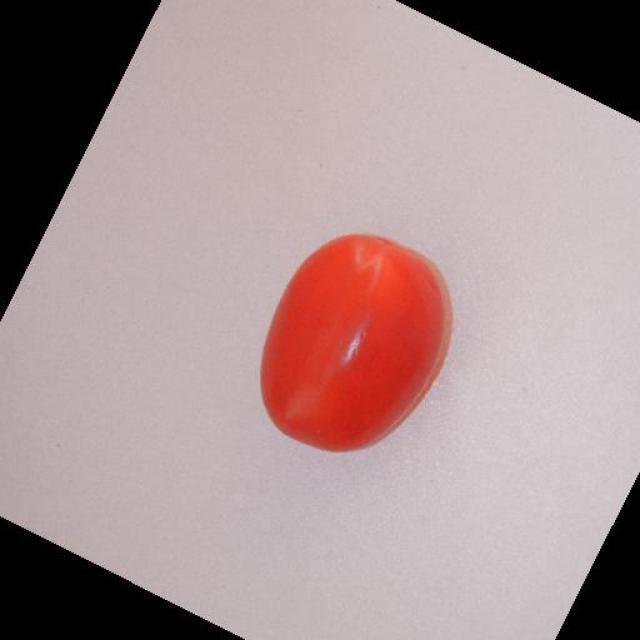Fresh Tomato: (232, 218, 470, 472)
